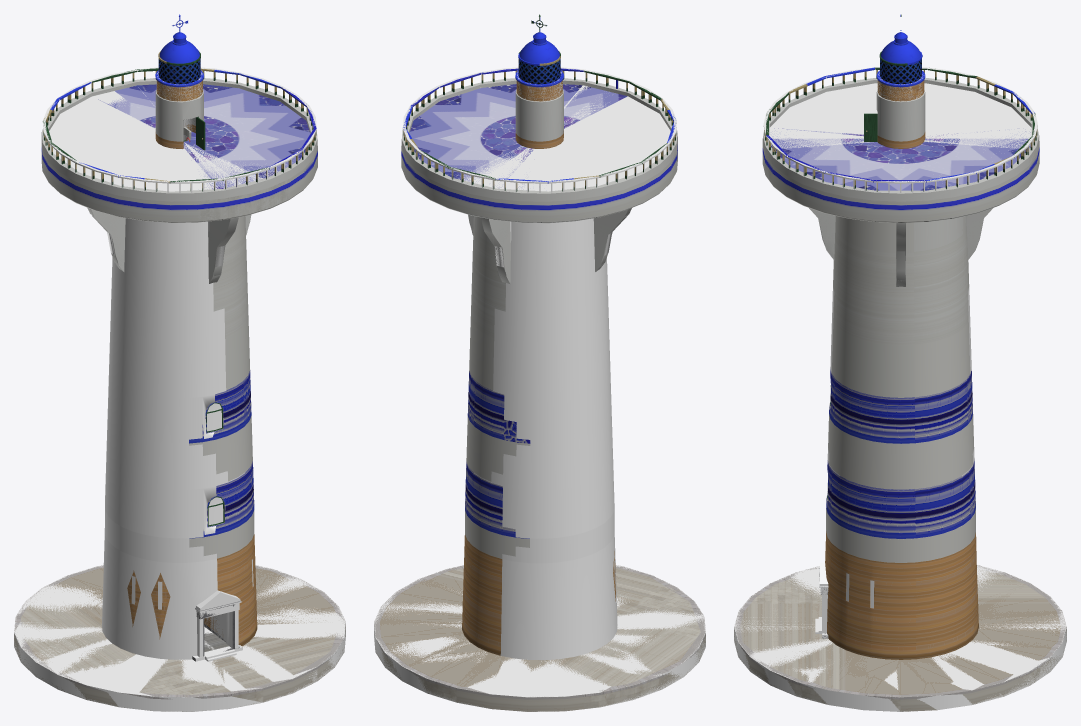
The model's file is objects_un_lighthouse02.gltf.
The picture shows the model from 3 angles, left to right: view 1: azimuth 30°, elevation 25°; view 2: azimuth 150°, elevation 25°; view 3: azimuth 270°, elevation 25°; orthographic projection.
Parts seen in each view (by area): view 1: um_objects_un_lighthouse02_model_lod0Shape:objects_un_lighth (×8), um_objects_un_lighthouse02_model_lod1Shape:objects_un_lighth (×3), um_objects_un_lighthouse02_model_lod2Shape:objects_un_lighth (×4), nomerge_objects_un_lighthouse02_top_shape:objects_un_lightho (×3), nomerge_lenslight_model_shape:objects_un_lighthouse02_obj01_; view 2: um_objects_un_lighthouse02_model_lod0Shape:objects_un_lighth (×8), um_objects_un_lighthouse02_model_lod2Shape:objects_un_lighth (×4), um_objects_un_lighthouse02_model_lod1Shape:objects_un_lighth (×3), nomerge_objects_un_lighthouse02_top_shape:objects_un_lightho (×3), nomerge_lenslight_model_shape:objects_un_lighthouse02_obj01_; view 3: um_objects_un_lighthouse02_model_lod0Shape:objects_un_lighth (×8), um_objects_un_lighthouse02_model_lod1Shape:objects_un_lighth (×4), um_objects_un_lighthouse02_model_lod2Shape:objects_un_lighth (×4), nomerge_objects_un_lighthouse02_top_shape:objects_un_lightho (×3), nomerge_lenslight_model_shape:objects_un_lighthouse02_obj01_.
Boxes of the visible parts, <box> form: um_objects_un_lighthouse02_model_lod0Shape:objects_un_lighth (×8): <box>14,22,345,711</box>; um_objects_un_lighthouse02_model_lod1Shape:objects_un_lighth (×3): <box>20,78,330,694</box>; um_objects_un_lighthouse02_model_lod2Shape:objects_un_lighth (×4): <box>14,68,345,699</box>; nomerge_objects_un_lighthouse02_top_shape:objects_un_lightho (×3): <box>155,14,205,150</box>; nomerge_lenslight_model_shape:objects_un_lighthouse02_obj01_: <box>158,59,200,84</box>; um_objects_un_lighthouse02_model_lod0Shape:objects_un_lighth (×8): <box>374,22,705,711</box>; um_objects_un_lighthouse02_model_lod2Shape:objects_un_lighth (×4): <box>384,68,704,693</box>; um_objects_un_lighthouse02_model_lod1Shape:objects_un_lighth (×3): <box>380,78,698,665</box>; nomerge_objects_un_lighthouse02_top_shape:objects_un_lightho (×3): <box>515,14,563,148</box>; nomerge_lenslight_model_shape:objects_un_lighthouse02_obj01_: <box>518,59,560,84</box>; um_objects_un_lighthouse02_model_lod0Shape:objects_un_lighth (×8): <box>734,67,1066,711</box>; um_objects_un_lighthouse02_model_lod1Shape:objects_un_lighth (×4): <box>735,78,1061,697</box>; um_objects_un_lighthouse02_model_lod2Shape:objects_un_lighth (×4): <box>735,67,1066,699</box>; nomerge_objects_un_lighthouse02_top_shape:objects_un_lightho (×3): <box>864,14,925,148</box>; nomerge_lenslight_model_shape:objects_un_lighthouse02_obj01_: <box>880,59,921,84</box>.
Size of what is drawn, in the model's own units: 24.45 by 50.89 by 24.45.
12 materials, 9 textured.
